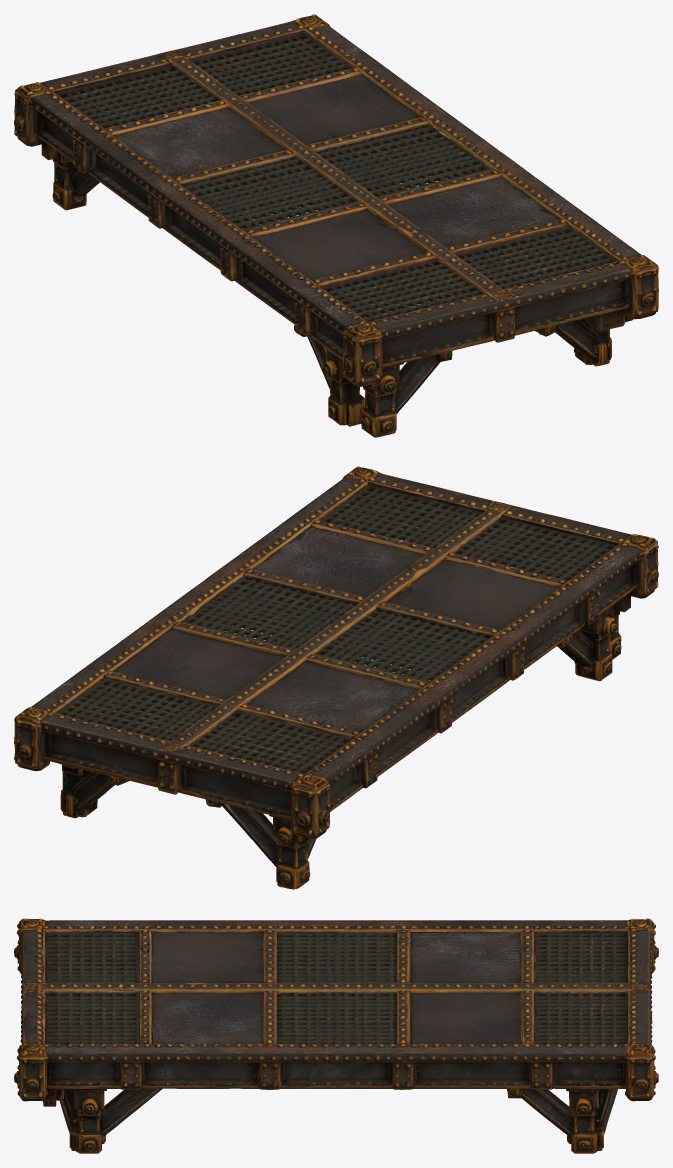
The model's file is raw_platform.glb.
The picture shows the model from 3 angles, top to bottom: view 1: azimuth 30°, elevation 25°; view 2: azimuth 150°, elevation 25°; view 3: azimuth 270°, elevation 25°; orthographic projection. The views are drawn at different scales.
Parts seen in each view (by area): view 1: platform; view 2: platform; view 3: platform.
Boxes of the visible parts, x1=… form: platform: x1=14, y1=14, x2=658, y2=437; platform: x1=14, y1=466, x2=658, y2=889; platform: x1=14, y1=918, x2=658, y2=1153.
Size of the model in its own units: 0.517 by 0.1868 by 1.
Materials: 1 (1 with a texture image).
